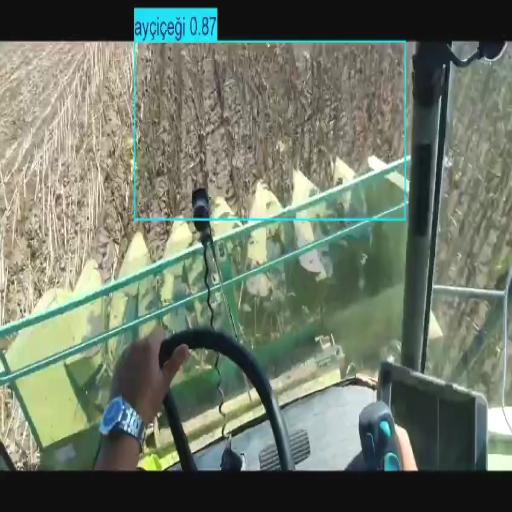ayc: (137, 45, 404, 215)
